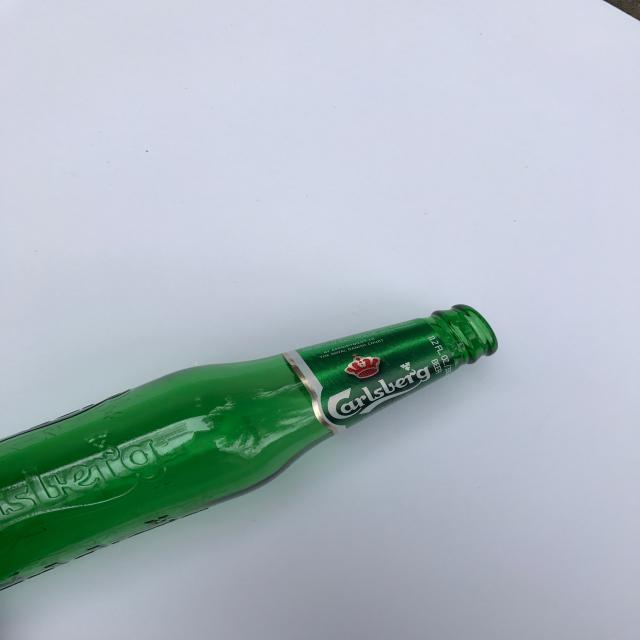glass: (2, 302, 500, 592)
